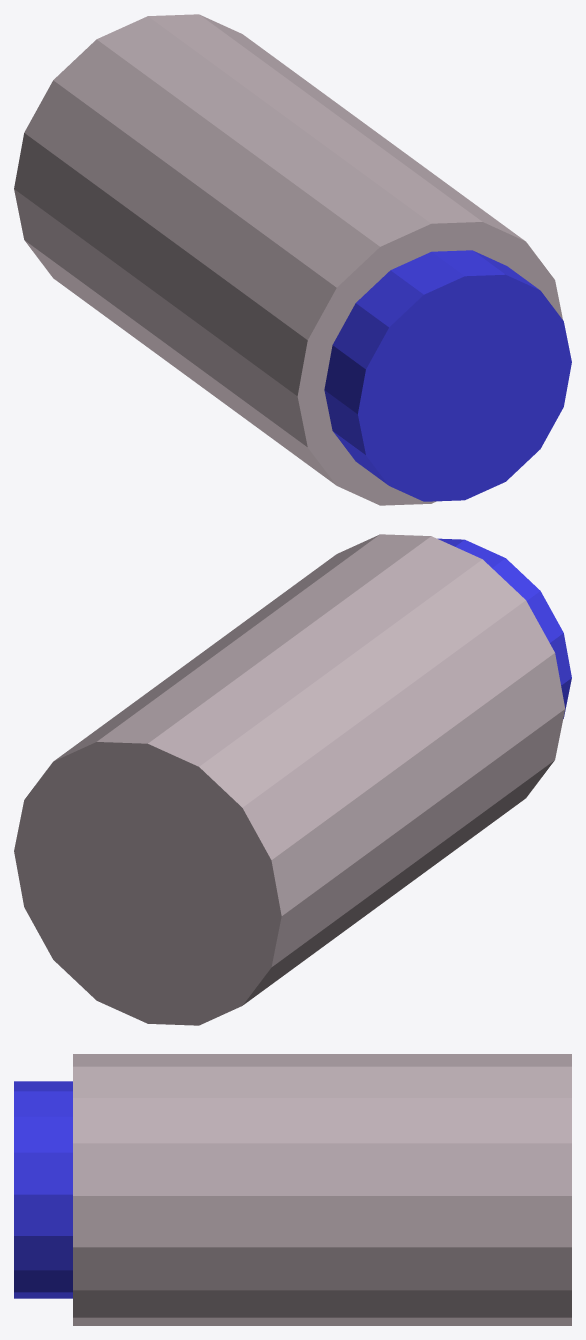
Rendered from bottle.glb.
3 views of the same model, one above another, from view 1: azimuth 30°, elevation 25°; view 2: azimuth 150°, elevation 25°; view 3: azimuth 270°, elevation 25° (orthographic). The views are drawn at different scales.
Visible parts, largest first — view 1: bottle_2, bottle_1; view 2: bottle_2, bottle_1; view 3: bottle_2, bottle_1.
Part boxes in pixels (box(x1,y1,x2,y2)): bottle_2: box(14, 14, 562, 505); bottle_1: box(324, 250, 571, 501); bottle_2: box(14, 534, 565, 1025); bottle_1: box(437, 538, 571, 718); bottle_2: box(73, 1054, 571, 1325); bottle_1: box(14, 1081, 72, 1298).
Bounding box in the file's own units: 16 × 16 × 32.83.
